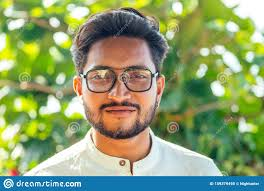Indian_Male: (91, 39, 153, 146)
